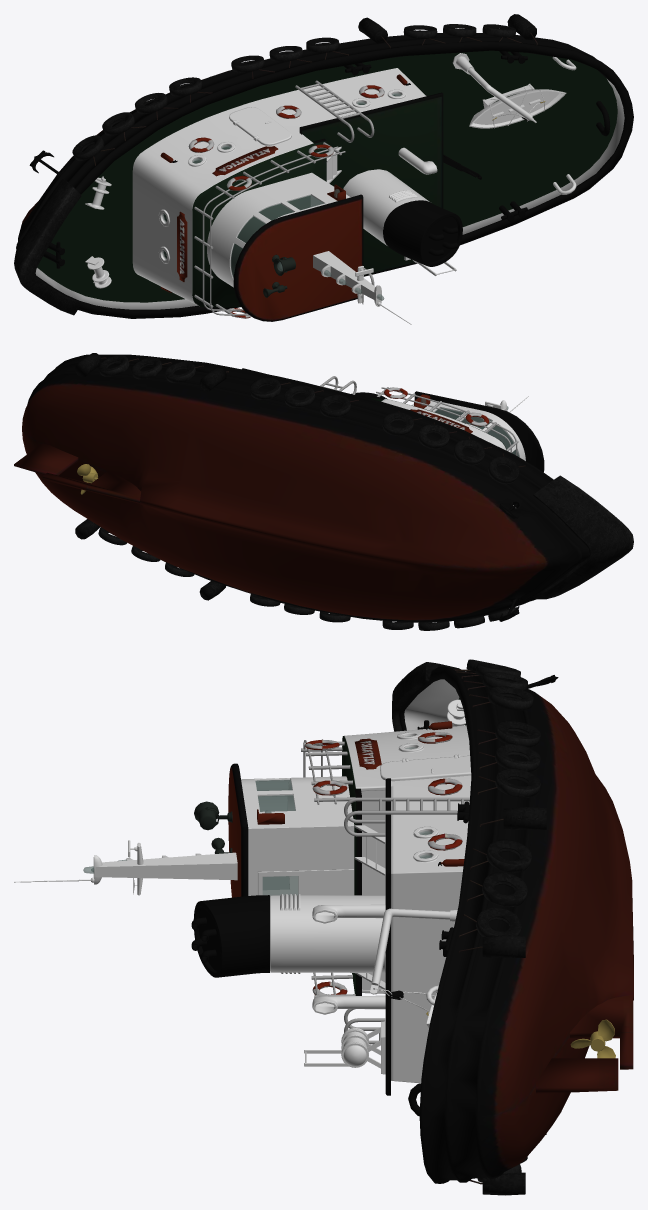
The model's file is boat.glb.
The picture shows the model from 3 angles, top to bottom: view 1: azimuth 30°, elevation 25°; view 2: azimuth 150°, elevation 25°; view 3: azimuth 270°, elevation 25°; orthographic projection. The views are drawn at different scales.
Parts seen in each view (by area): view 1: boat_body, boat_roof_accessory, boat_elements_04_white, boat_tires, boat_chopping_wight, boat_elements_01_black, boat_front, boat_fences_silver, boat_sailing_boat_01_white, boat_elements_06_black, boat_elements_05_white, boat_roof_floating_donuts (+6 smaller); view 2: boat_body, boat_tires, boat_front, boat_roof_accessory, boat_buffer, boat_fences_silver, boat_chopping_wight, boat_elements_04_white, boat_chopping_glass, boat_roof_floating_donuts; view 3: boat_body, boat_elements_04_white, boat_chopping_wight, boat_tires, boat_roof_accessory, boat_elements_01_black, boat_fences_silver, boat_mast_01_white, boat_buffer, boat_roof_floating_donuts, boat_chopping_glass, boat_elements_05_white (+4 smaller).
Boxes of the visible parts, left/top/right/bottom form: boat_body: left=16, top=33, right=633, bottom=318; boat_roof_accessory: left=160, top=74, right=443, bottom=321; boat_elements_04_white: left=132, top=68, right=437, bottom=307; boat_tires: left=72, top=24, right=521, bottom=314; boat_chopping_wight: left=207, top=146, right=350, bottom=287; boat_elements_01_black: left=383, top=200, right=462, bottom=266; boat_front: left=14, top=178, right=81, bottom=315; boat_fences_silver: left=194, top=80, right=374, bottom=316; boat_sailing_boat_01_white: left=469, top=85, right=566, bottom=128; boat_elements_06_black: left=29, top=51, right=610, bottom=268; boat_elements_05_white: left=452, top=53, right=576, bottom=194; boat_roof_floating_donuts: left=188, top=85, right=384, bottom=318; boat_body: left=14, top=354, right=588, bottom=622; boat_tires: left=98, top=355, right=525, bottom=630; boat_front: left=533, top=475, right=633, bottom=599; boat_roof_accessory: left=242, top=368, right=544, bottom=472; boat_buffer: left=75, top=353, right=228, bottom=600; boat_fences_silver: left=319, top=376, right=518, bottom=455; boat_chopping_wight: left=411, top=401, right=525, bottom=460; boat_elements_04_white: left=381, top=398, right=506, bottom=450; boat_chopping_glass: left=435, top=407, right=519, bottom=456; boat_roof_floating_donuts: left=384, top=387, right=489, bottom=426; boat_body: left=399, top=666, right=633, bottom=1183; boat_elements_04_white: left=270, top=725, right=471, bottom=1083; boat_chopping_wight: left=241, top=776, right=385, bottom=989; boat_tires: left=453, top=659, right=540, bottom=1182; boat_roof_accessory: left=194, top=721, right=464, bottom=1095; boat_elements_01_black: left=193, top=895, right=269, bottom=977; boat_fences_silver: left=133, top=739, right=469, bottom=1044; boat_mast_01_white: left=14, top=840, right=237, bottom=882; boat_buffer: left=458, top=807, right=546, bottom=1195; boat_roof_floating_donuts: left=305, top=732, right=462, bottom=995; boat_chopping_glass: left=255, top=780, right=298, bottom=896; boat_elements_05_white: left=369, top=908, right=457, bottom=1016.
Bounding box in the file's own units: 1759 × 645 × 1113.
Materials: 8 (3 with a texture image).
